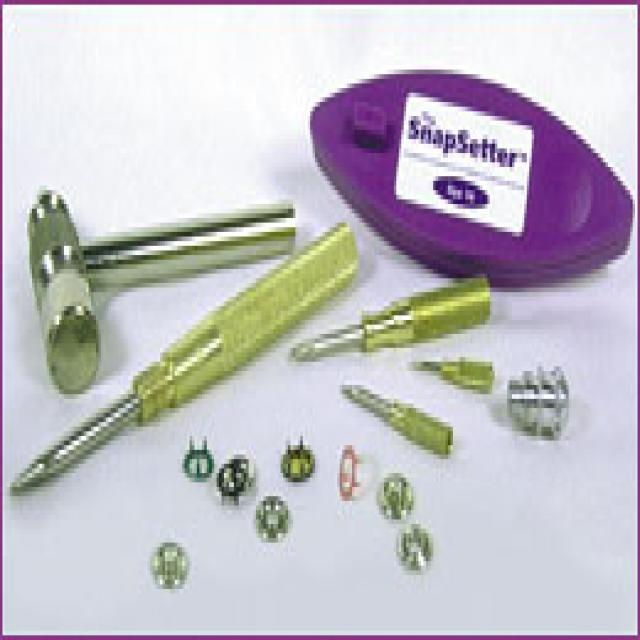hammer: (19, 168, 302, 405)
screwdriver: (1, 218, 369, 524), (284, 264, 498, 368), (336, 371, 462, 469), (408, 344, 500, 407)
